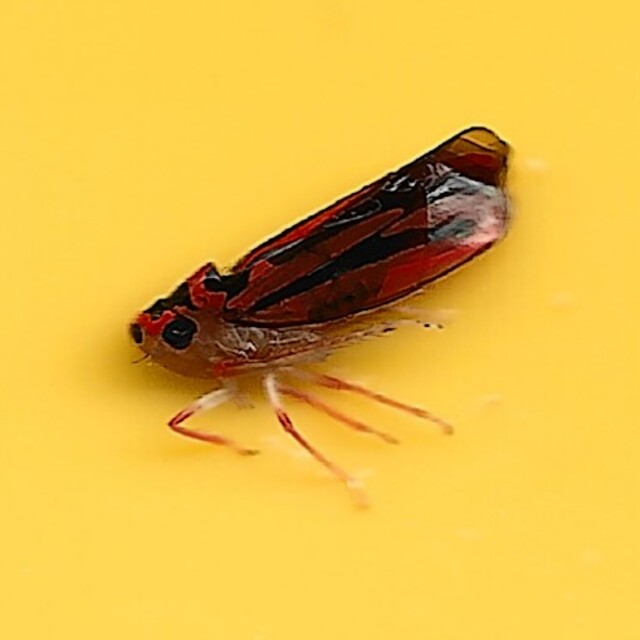Hemiptera: (126, 125, 514, 515)
